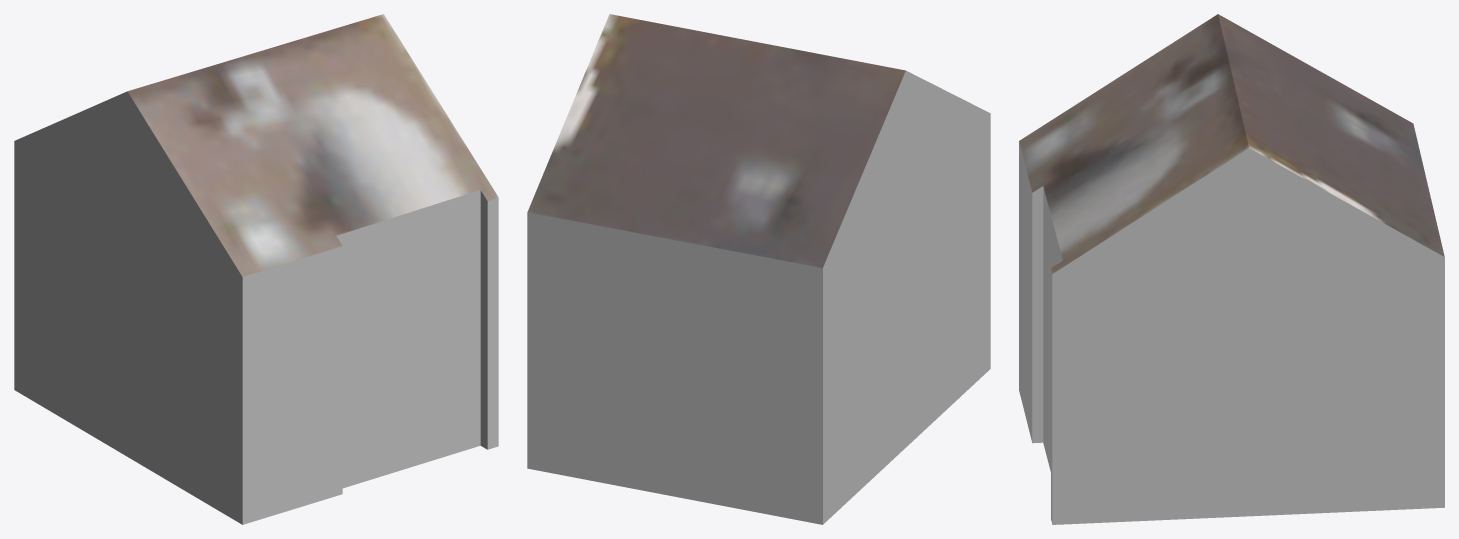
File: DEBW_0010007Txdk.gltf
3 renders of one model, left to right at view 1: azimuth 30°, elevation 25°; view 2: azimuth 150°, elevation 25°; view 3: azimuth 270°, elevation 25°, orthographic. The views are drawn at different scales.
Visible parts, largest first — view 1: Z_UP; view 2: Z_UP; view 3: Z_UP.
Part boxes in pixels (<box>): Z_UP: <box>14,14,498,524</box>; Z_UP: <box>527,14,990,524</box>; Z_UP: <box>1019,14,1444,524</box>.
Size of the model in its own units: 9.18 by 10.49 by 10.98.
2 materials, 1 textured.
